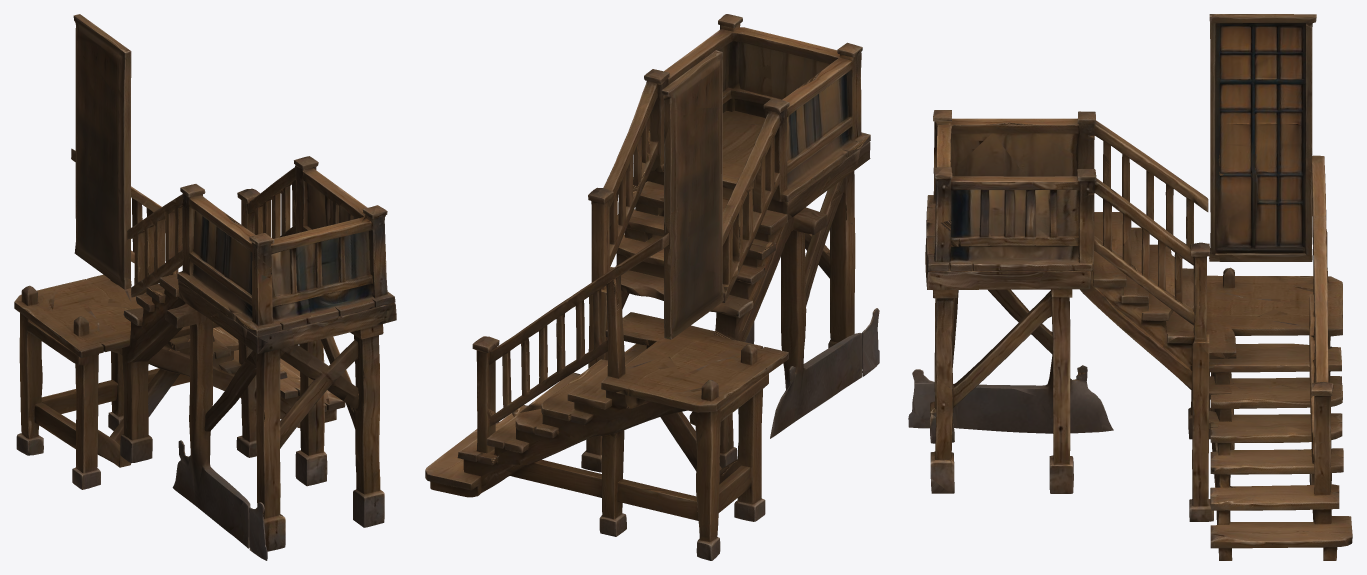
Rendered from stairway-landing.glb.
3 views of the same model, side by side, from view 1: azimuth 30°, elevation 25°; view 2: azimuth 150°, elevation 25°; view 3: azimuth 270°, elevation 25° (orthographic). The views are drawn at different scales.
Visible parts, largest first — view 1: SM_StairwayLanding; view 2: SM_StairwayLanding; view 3: SM_StairwayLanding.
Boxes of the visible parts, x1,y1,x2,y2 form: SM_StairwayLanding: [14, 14, 396, 560]; SM_StairwayLanding: [425, 14, 879, 560]; SM_StairwayLanding: [908, 14, 1352, 560].
Size of the model in its own units: 4.02 by 6 by 5.44.
Materials: 1 (1 with a texture image).
